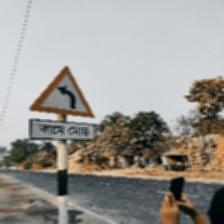Left-Turn: (29, 66, 97, 137)
